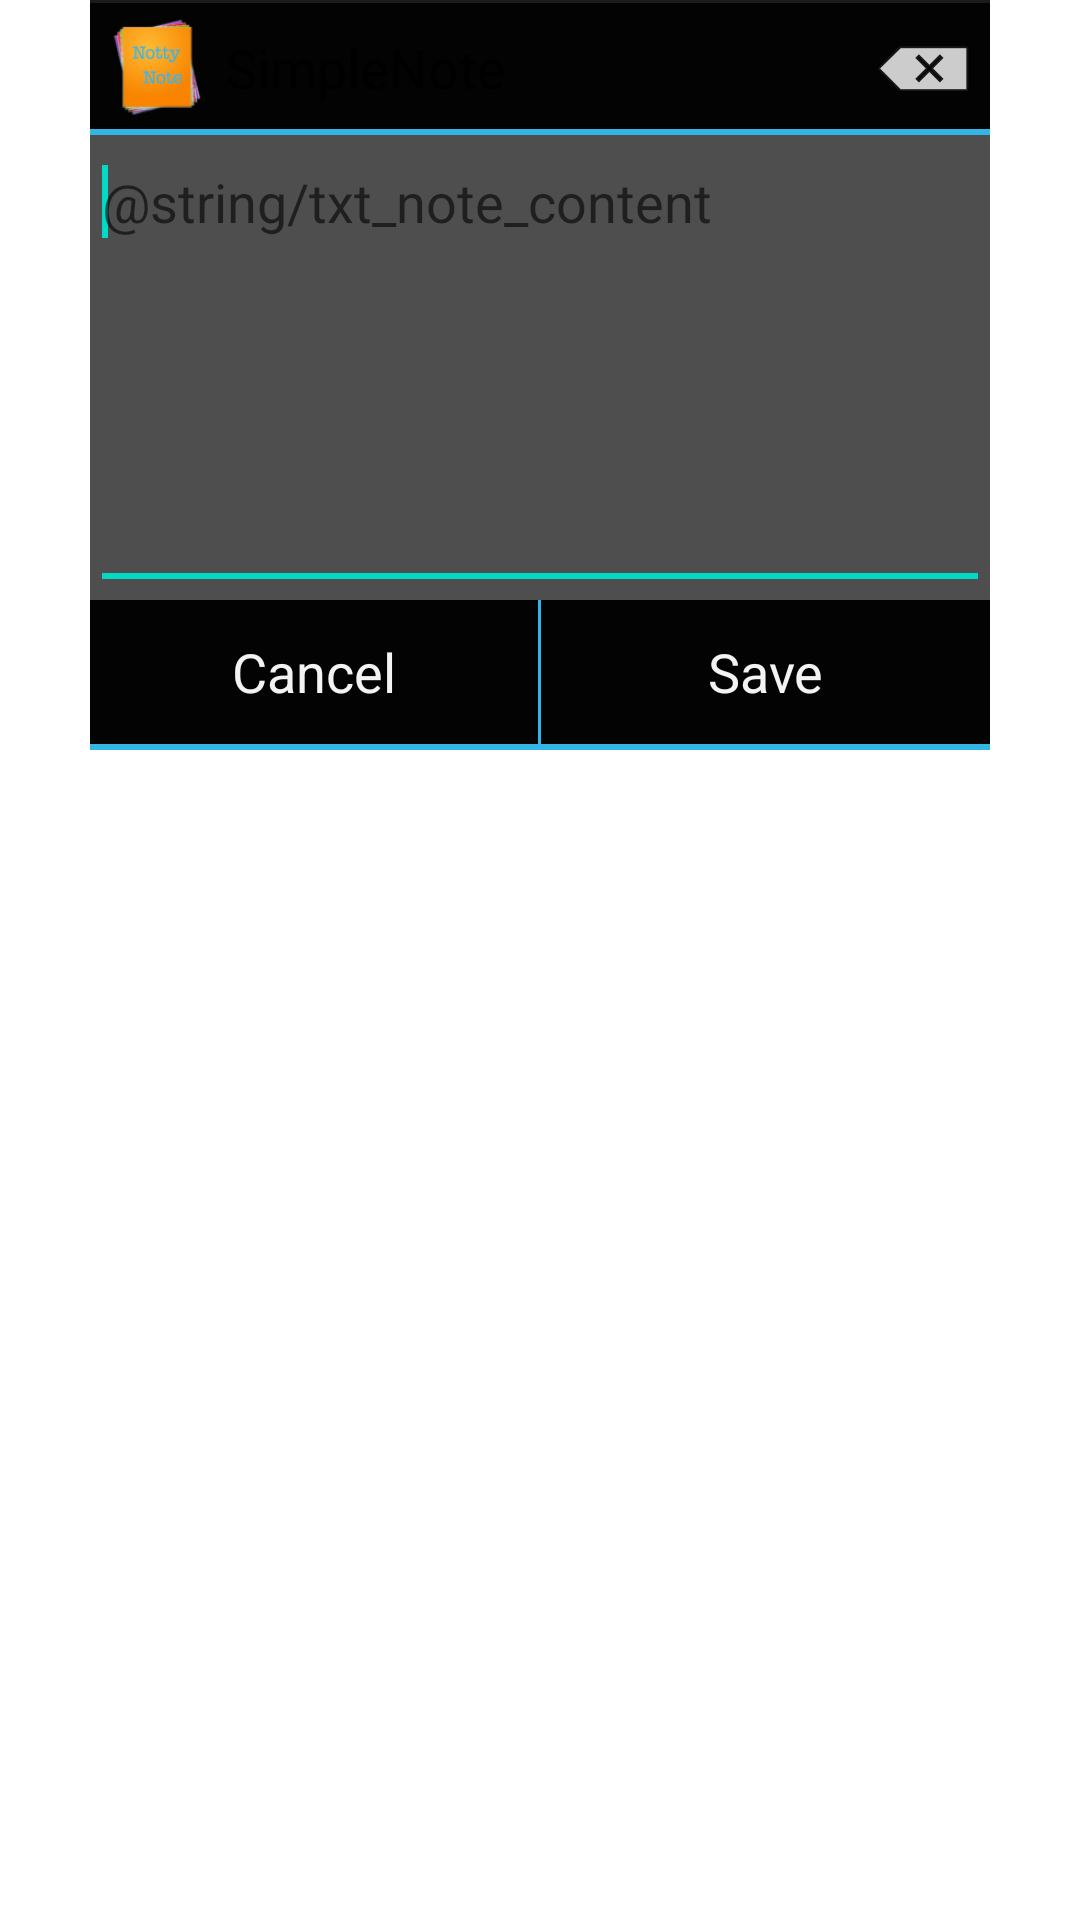

Screen size 1080w x 1920h. Icon name, then its box in pixels as (x1, y1, x2, y2):
delete: (880, 48, 967, 90)
